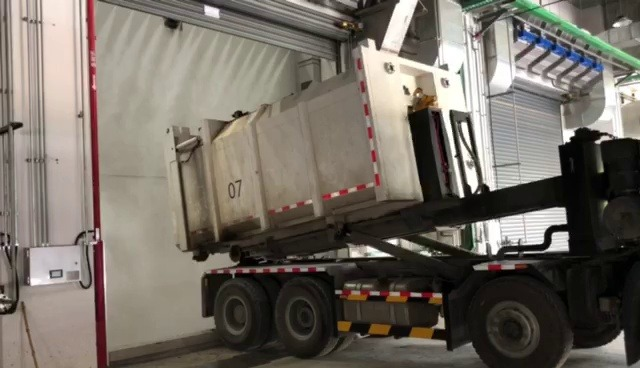truck: (157, 33, 640, 368)
